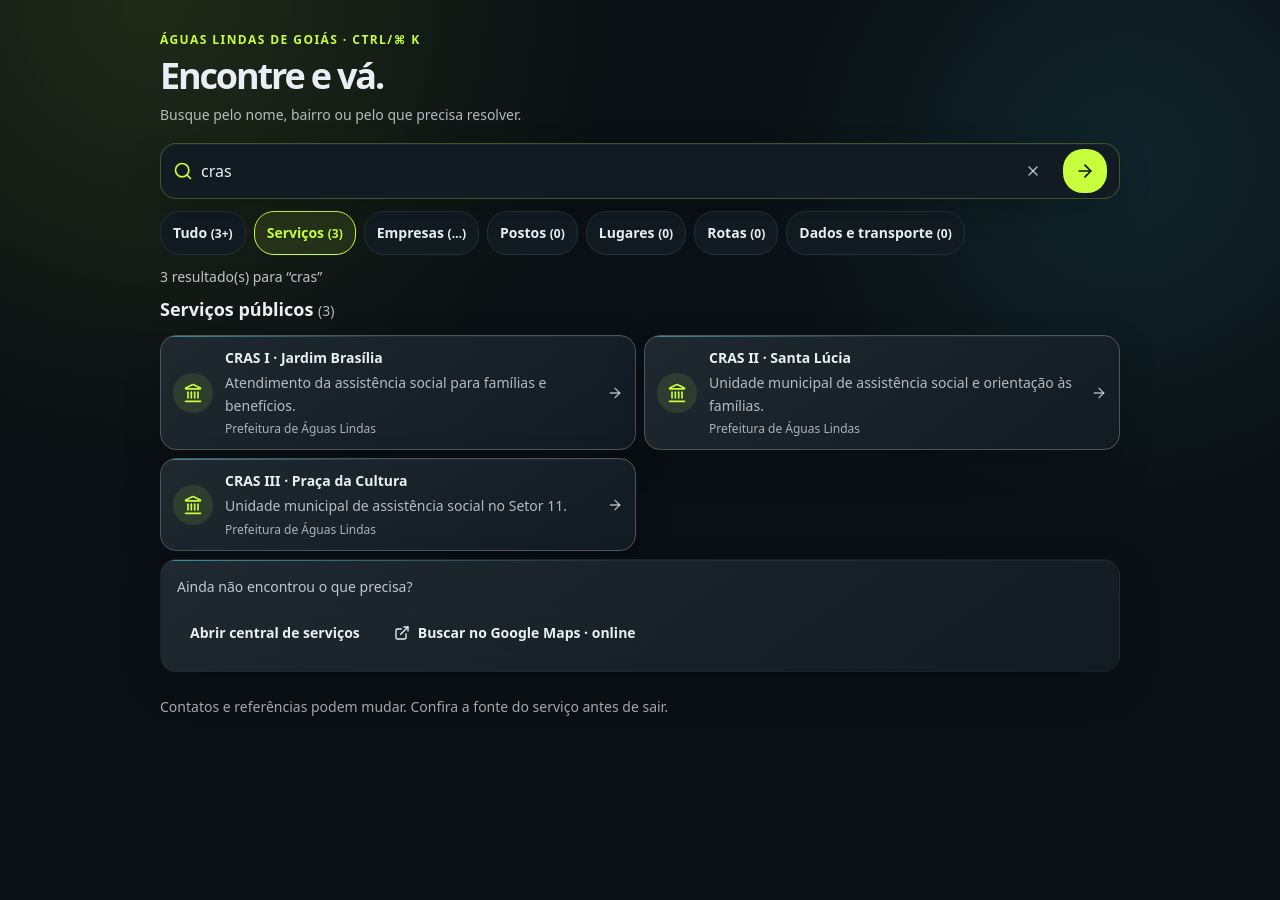
Test: hides the commercial section when a noncommercial result filter is selected
Expected: the number of buttons "CRAS" is 3, left=160, top=335, right=636, bottom=450; left=644, top=335, right=1120, bottom=450; left=160, top=458, right=636, bottom=551
Click the button "Postos (0)" at point(532, 233), box left=487, top=211, right=578, bottom=255
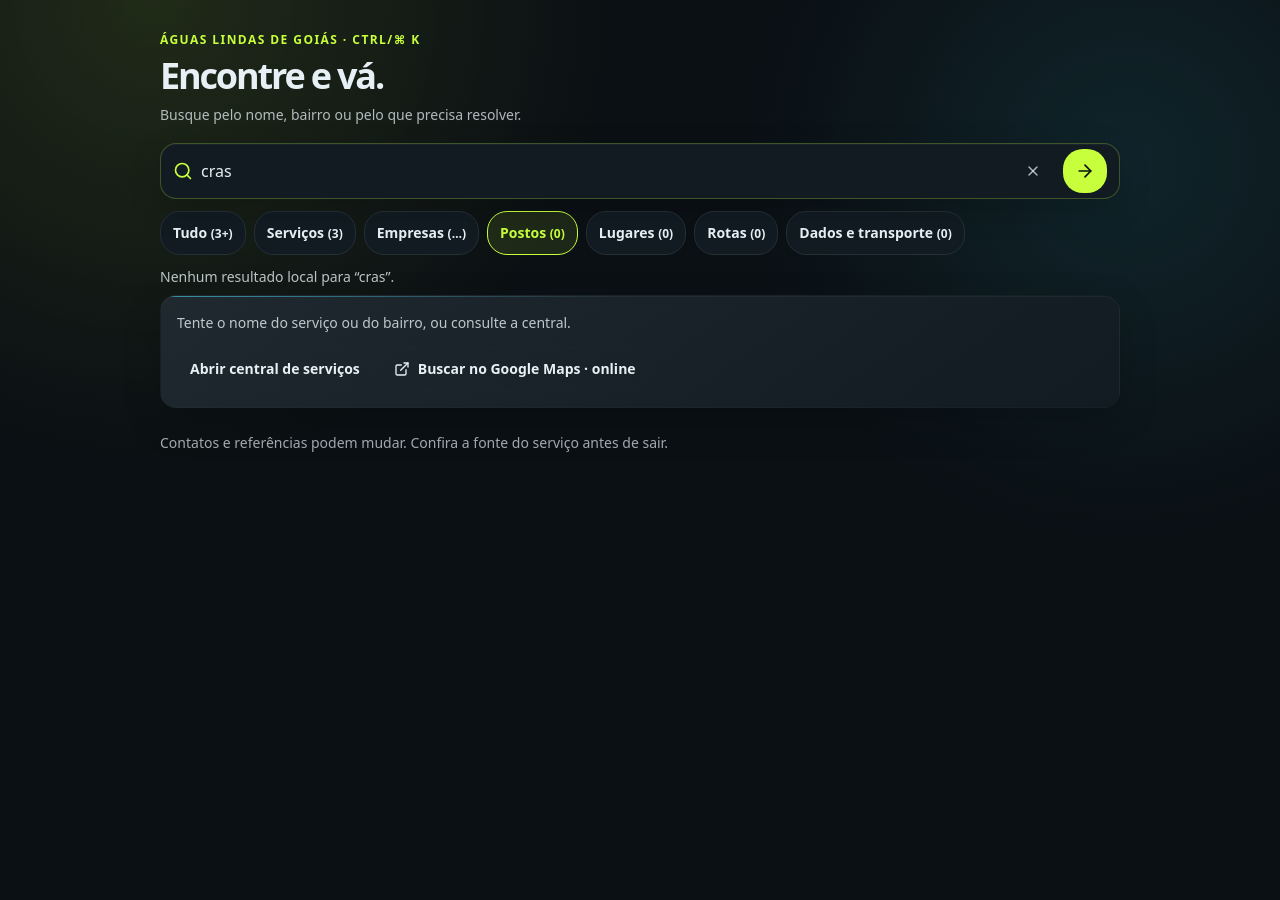
Expected: the message shows "Nenhum resultado local", left=160, top=267, right=394, bottom=286
